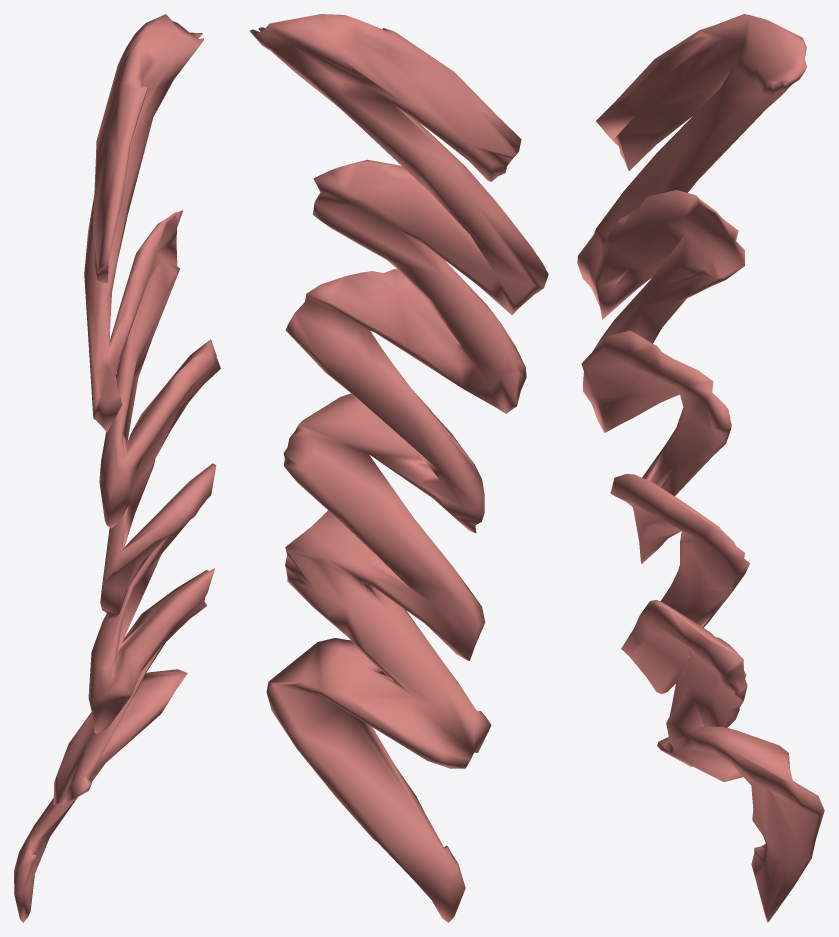
3 views of the same model, side by side, from view 1: azimuth 30°, elevation 25°; view 2: azimuth 150°, elevation 25°; view 3: azimuth 270°, elevation 25° (orthographic). The views are drawn at different scales.
Parts seen in each view (by area): view 1: ZA_1ce5f83b20f135cb; view 2: ZA_1ce5f83b20f135cb; view 3: ZA_1ce5f83b20f135cb.
Part boxes in pixels (box(x1,y1,x2,y2)): ZA_1ce5f83b20f135cb: box(14, 14, 220, 922); ZA_1ce5f83b20f135cb: box(249, 14, 548, 922); ZA_1ce5f83b20f135cb: box(577, 14, 824, 922).
Size of the model in its own units: 0.024 by 0.0981 by 0.0226.
